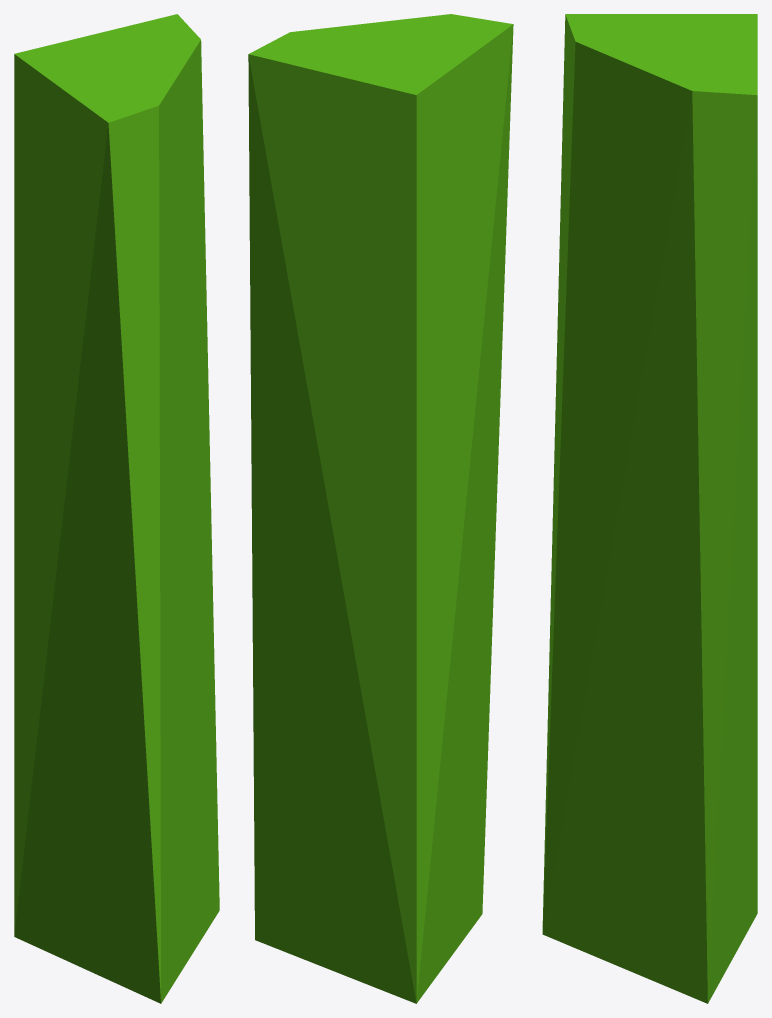
Rendered from simple_example_hole_part_7.obj.
3 renders of one model, left to right at view 1: azimuth 30°, elevation 25°; view 2: azimuth 150°, elevation 25°; view 3: azimuth 270°, elevation 25°, orthographic. The views are drawn at different scales.
Bounding box in the file's own units: 8.96 × 41.73 × 9.04.
